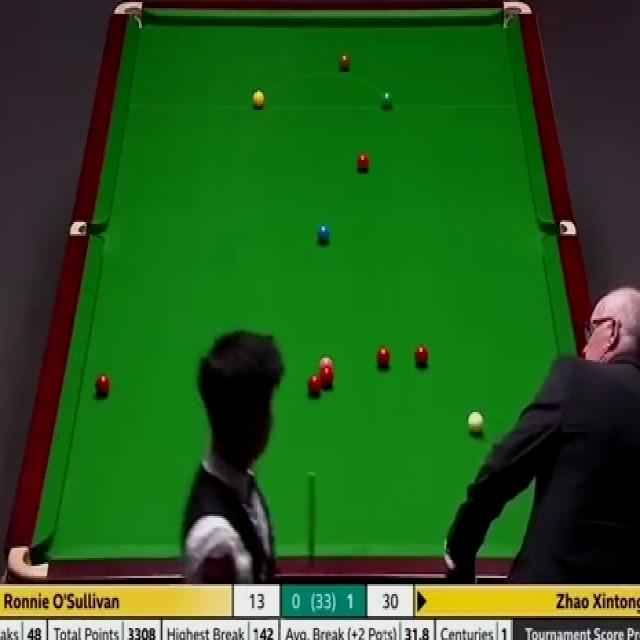blue-ball: (316, 223, 332, 245)
brown-ball: (338, 53, 351, 70)
green-ball: (380, 89, 393, 110)
pink-ball: (318, 354, 335, 372)
red-ball: (374, 343, 392, 372), (413, 342, 429, 368), (357, 152, 370, 176), (308, 375, 322, 397), (96, 374, 110, 395), (318, 370, 334, 387)
white-ball: (465, 410, 486, 438)
yellow-ball: (253, 90, 265, 110)
